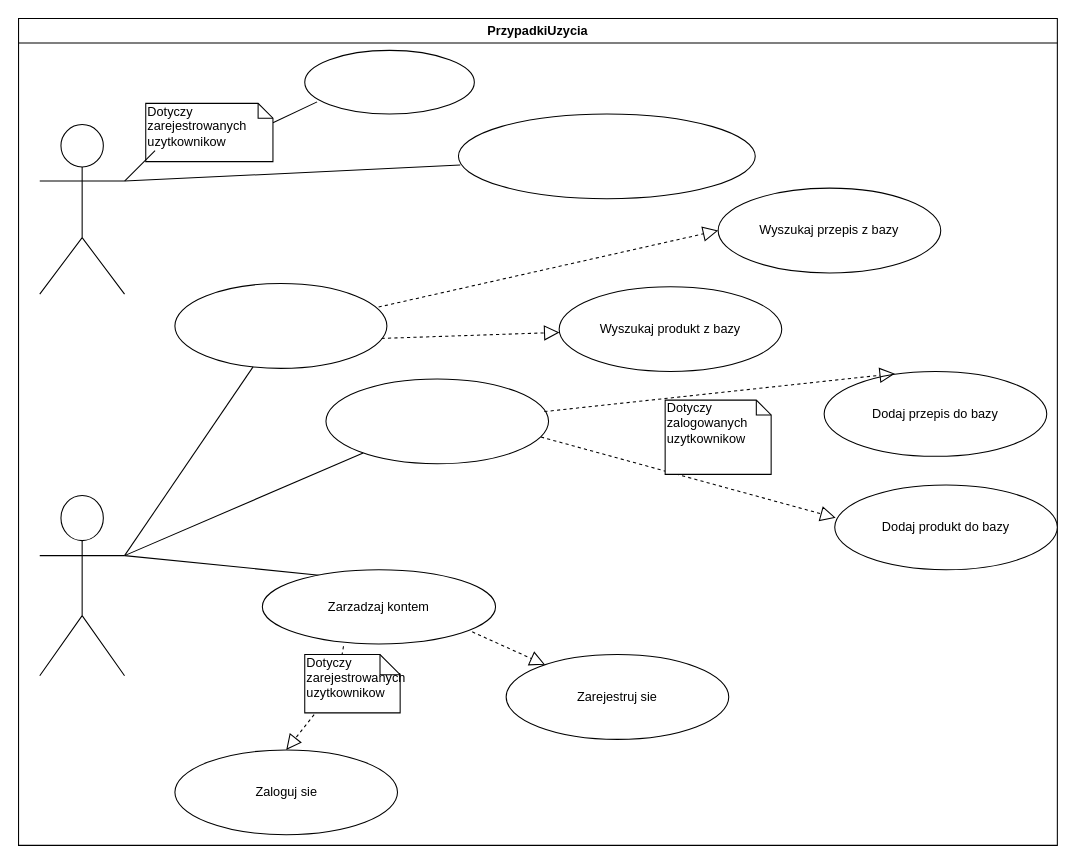
This 1076x864 diagram has some shape labels left out. The shapes that lost their labels are listed below. From the top down, each one's box as (x1, y1, x2, y2) in pixels, then its label:
(304, 49, 474, 114): Dodaj lub usuń klienta
(457, 113, 755, 199): Usuń produkt lub przepis z bazy
(39, 123, 125, 294): Server
(174, 282, 387, 368): Wyszukaj
(325, 378, 549, 464): Dodaj
(39, 494, 125, 676): Klient
